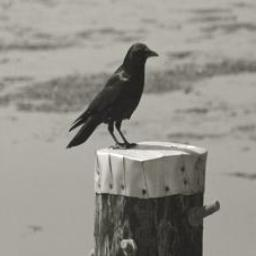Crow: (63, 39, 159, 154)
